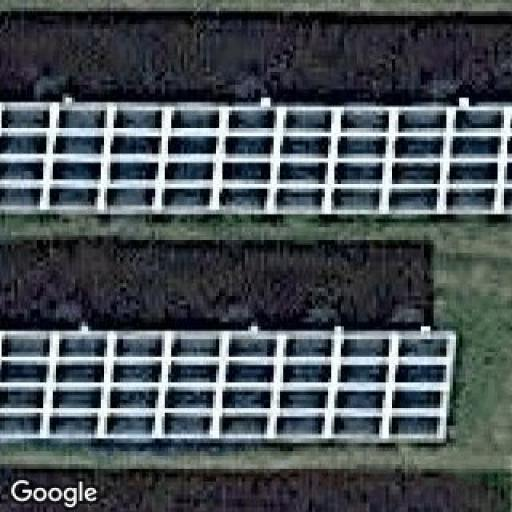solar-panel: (0, 102, 512, 220), (0, 329, 454, 444)
